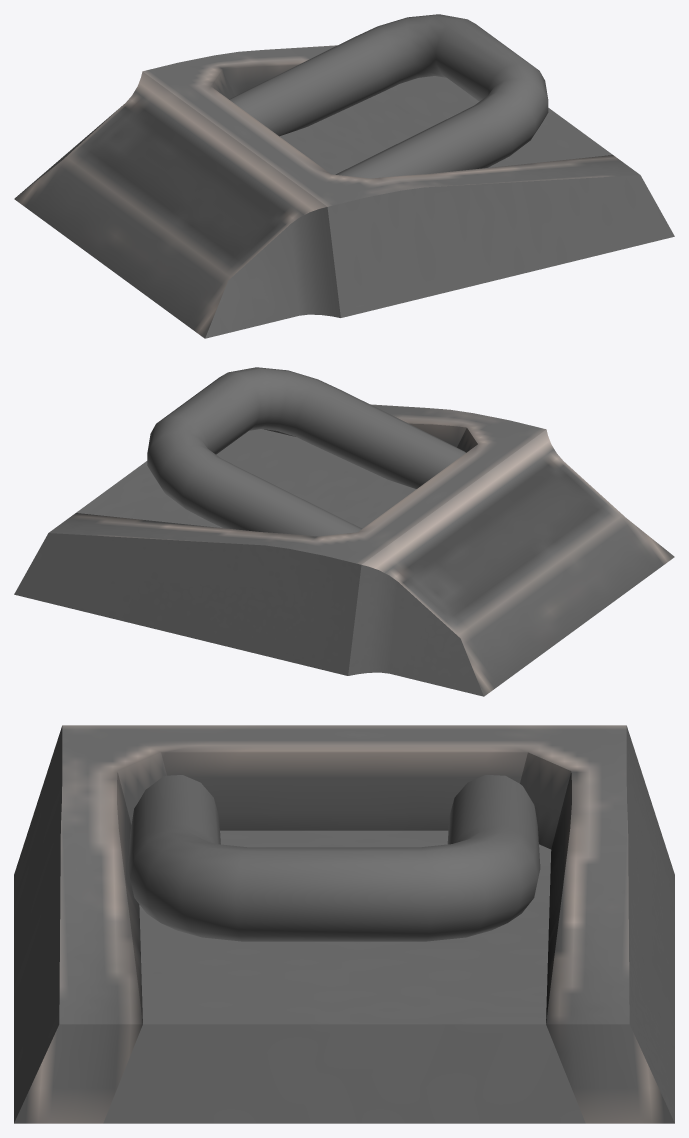
Rendered from quaternius-scifi-clamp.glb.
3 views of the same model, one above another, from view 1: azimuth 30°, elevation 25°; view 2: azimuth 150°, elevation 25°; view 3: azimuth 270°, elevation 25° (orthographic). The views are drawn at different scales.
Visible parts, largest first — view 1: Prop_Clamp; view 2: Prop_Clamp; view 3: Prop_Clamp.
Boxes of the visible parts, x1,y1,x2,y2 form: Prop_Clamp: (14,14,674,338); Prop_Clamp: (14,367,674,696); Prop_Clamp: (14,725,674,1123).
Size of the model in its own units: 0.5605 by 0.1617 by 0.4602.
2 materials, 2 textured.
